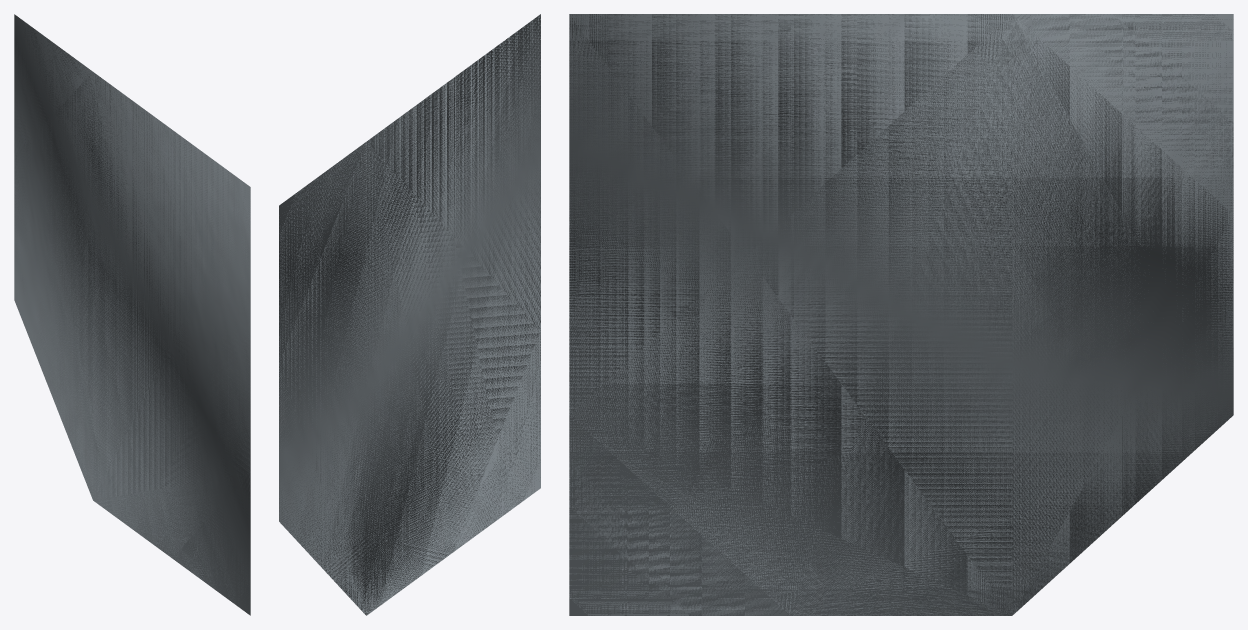
3 renders of one model, left to right at view 1: azimuth 30°, elevation 25°; view 2: azimuth 150°, elevation 25°; view 3: azimuth 270°, elevation 25°, orthographic. The views are drawn at different scales.
Size of the model in its own units: 0 by 0.72 by 0.72.
1 material, 1 textured.
